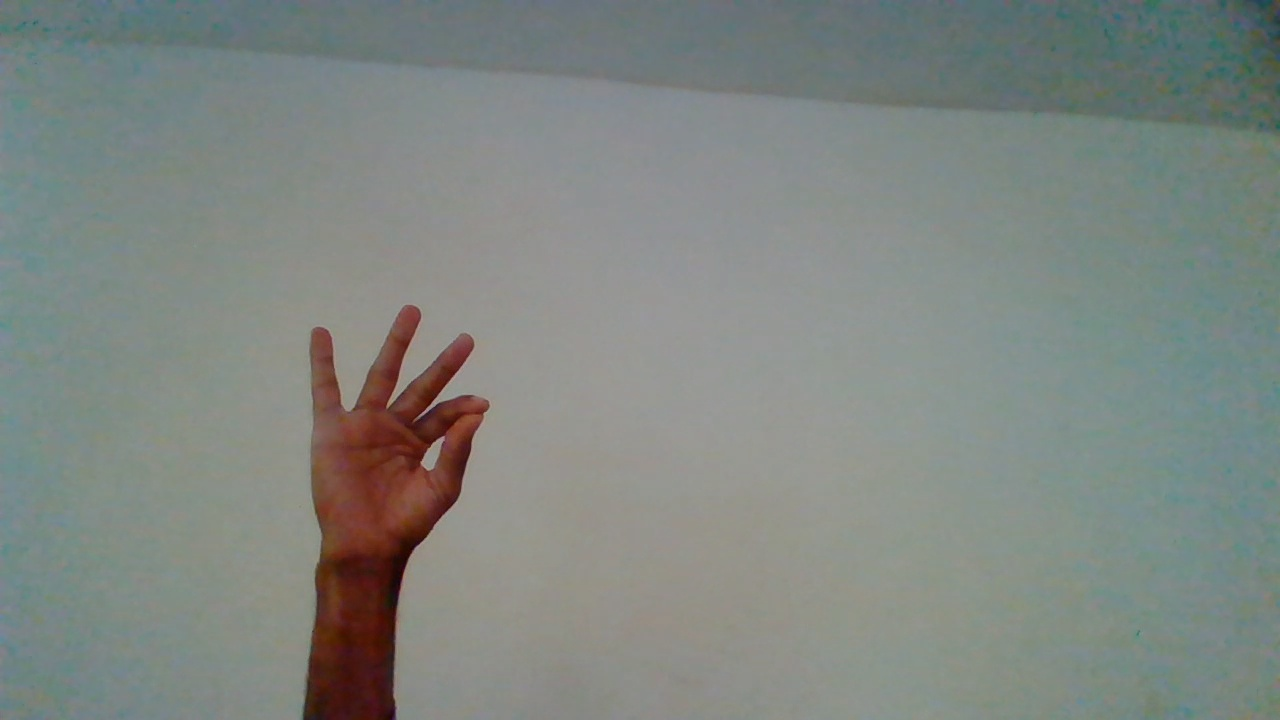le: (307, 301, 489, 705)
